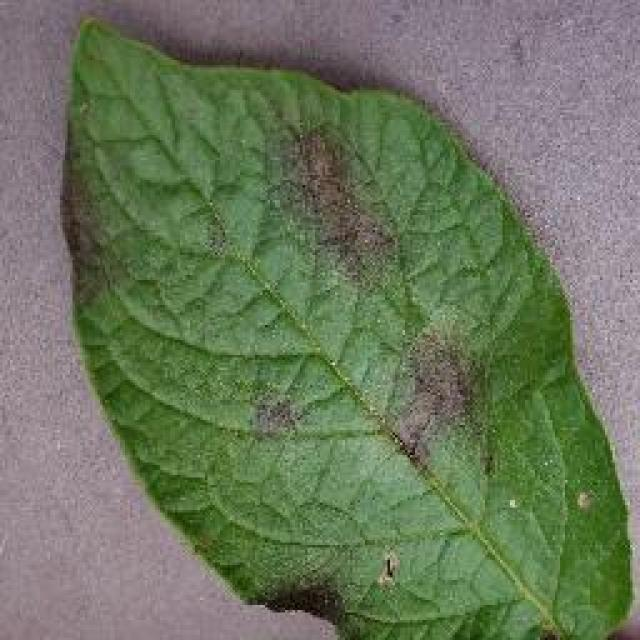Potato: (57, 12, 635, 638)
